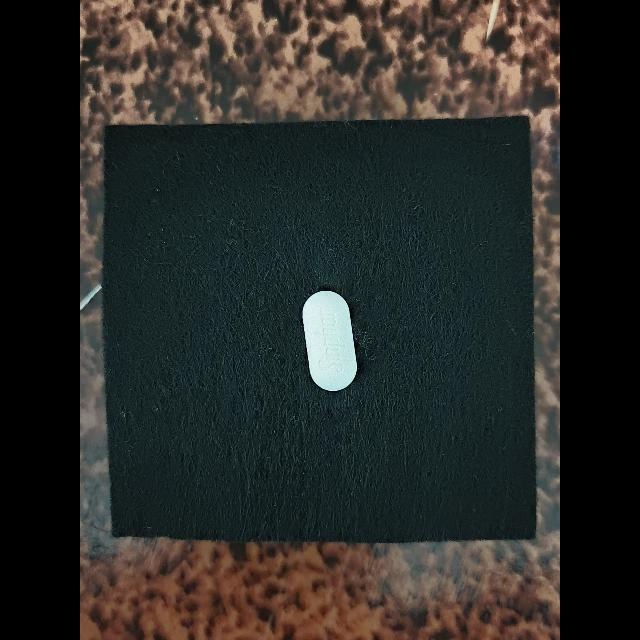Intact Pill: (303, 290, 357, 391)
